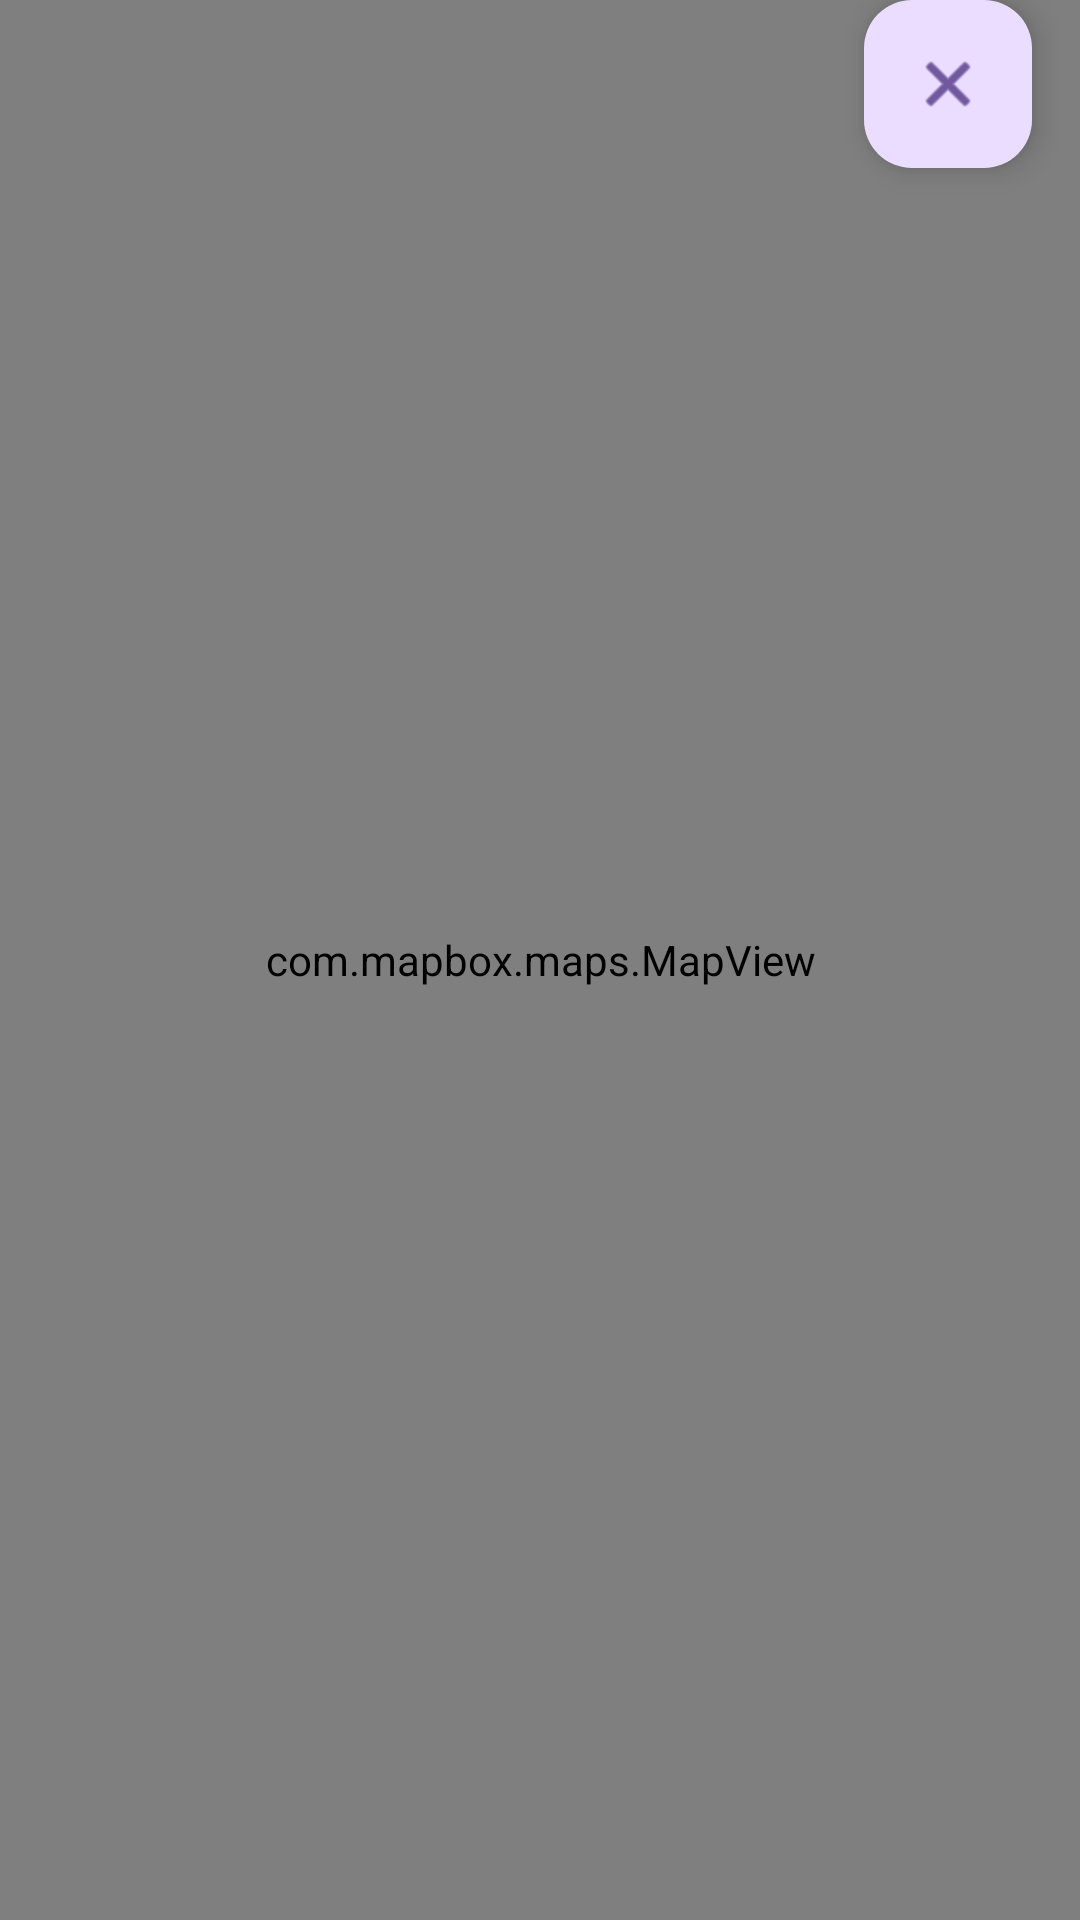

Icon click points for this 1080x1920 phone screenshot, format point (x, y):
close clear cancel: point (948, 84)
